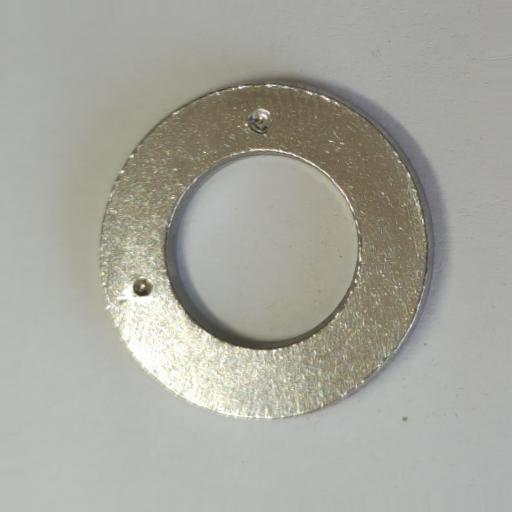circular_cavity: (247, 108, 272, 131), (132, 278, 153, 296)
